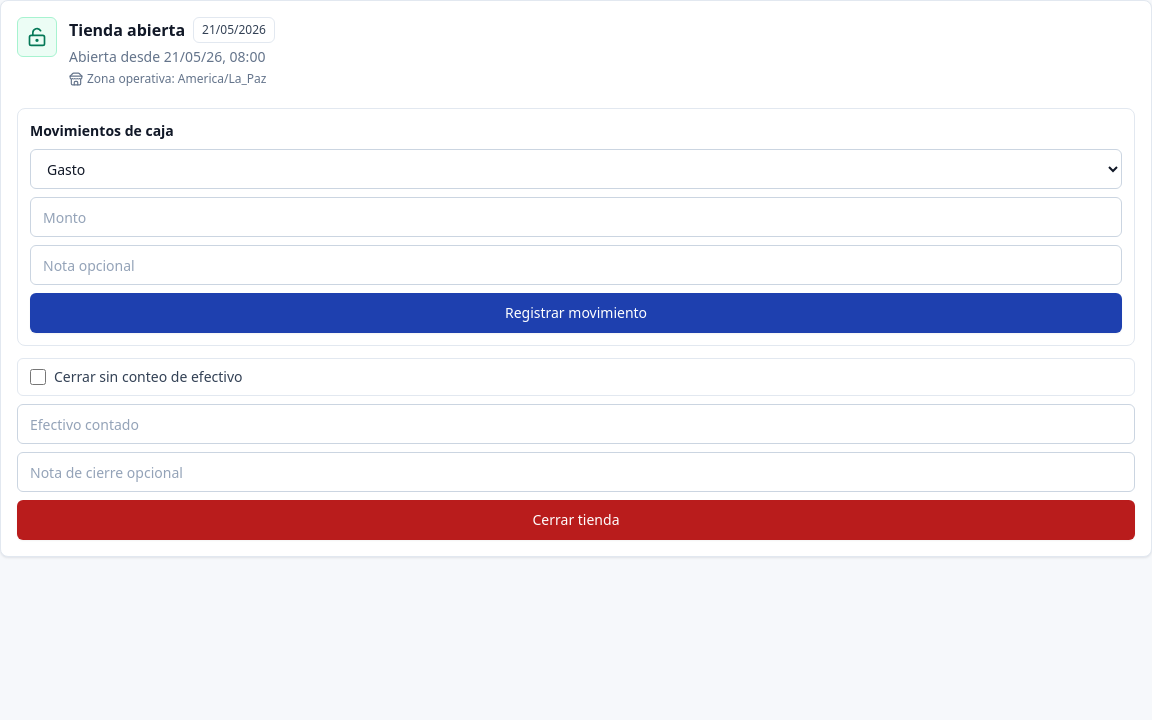
Test case: StoreDayStatusPanel › updates local state after closing the store day without cash count
Click the checkbox labelled "Cerrar sin conteo de efectivo": (38, 377) [30,369,46,385]
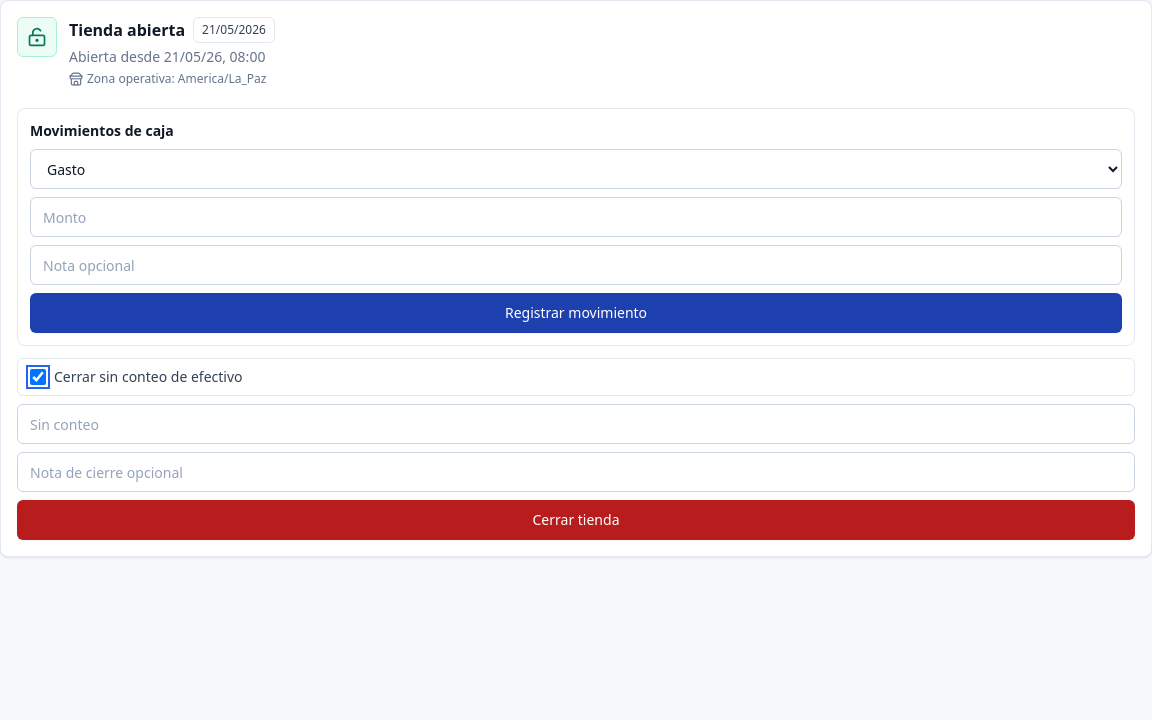
Click the button "Cerrar tienda": (576, 520) [17,500,1135,540]
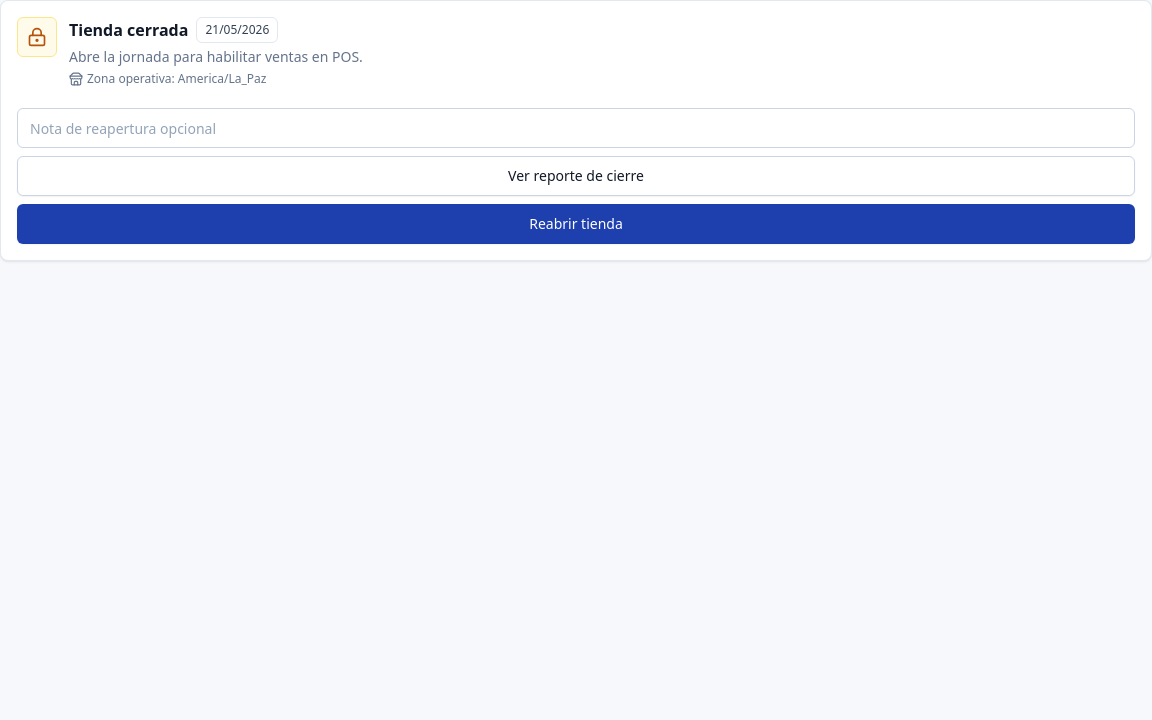
Expected: the heading "Tienda cerrada" is shown, [69,18,188,42]
Expected: the button "Reabrir tienda" is shown, [17,204,1135,244]
